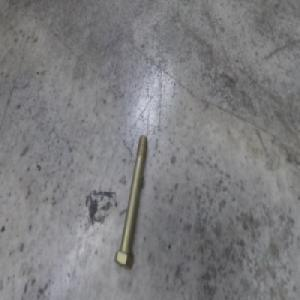Bolt: (114, 133, 147, 270)
